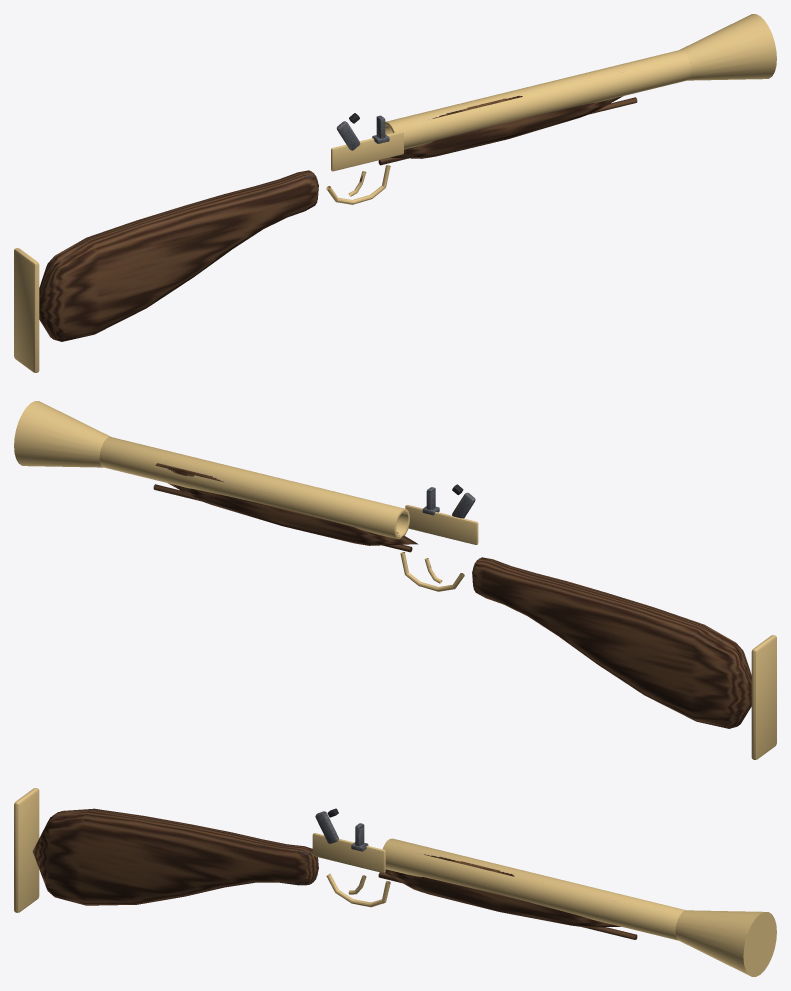
The model's file is blunderbuss.glb.
3 renders of one model, top to bottom at view 1: azimuth 30°, elevation 25°; view 2: azimuth 150°, elevation 25°; view 3: azimuth 330°, elevation 25°, orthographic.
Parts seen in each view (by area): view 1: stock, barrel, bell, fore_stock, butt_brass, lock_plate; view 2: stock, barrel, bell, fore_stock, butt_brass, lock_plate; view 3: stock, barrel, bell, fore_stock, butt_brass, lock_plate, trigger_guard, cock, ramrod.
Boxes of the visible parts, x1,y1,x2,y2 form: stock: (39, 170, 318, 341); barrel: (385, 50, 691, 149); bell: (680, 14, 776, 80); fore_stock: (390, 96, 622, 158); butt_brass: (14, 248, 39, 372); lock_plate: (331, 131, 403, 171); stock: (472, 557, 751, 728); barrel: (99, 437, 409, 539); bell: (14, 401, 110, 467); fore_stock: (168, 483, 418, 545); butt_brass: (751, 635, 776, 759); lock_plate: (405, 505, 478, 544); stock: (32, 808, 318, 905); barrel: (383, 838, 685, 940); bell: (675, 910, 776, 976); fore_stock: (385, 869, 620, 927); butt_brass: (14, 788, 39, 912); lock_plate: (312, 833, 385, 872); trigger_guard: (326, 873, 390, 907); cock: (315, 811, 338, 843); ramrod: (378, 872, 637, 939).
Bounding box in the file's own units: 0.8615 × 0.2034 × 0.068.
1 material, 1 textured.
